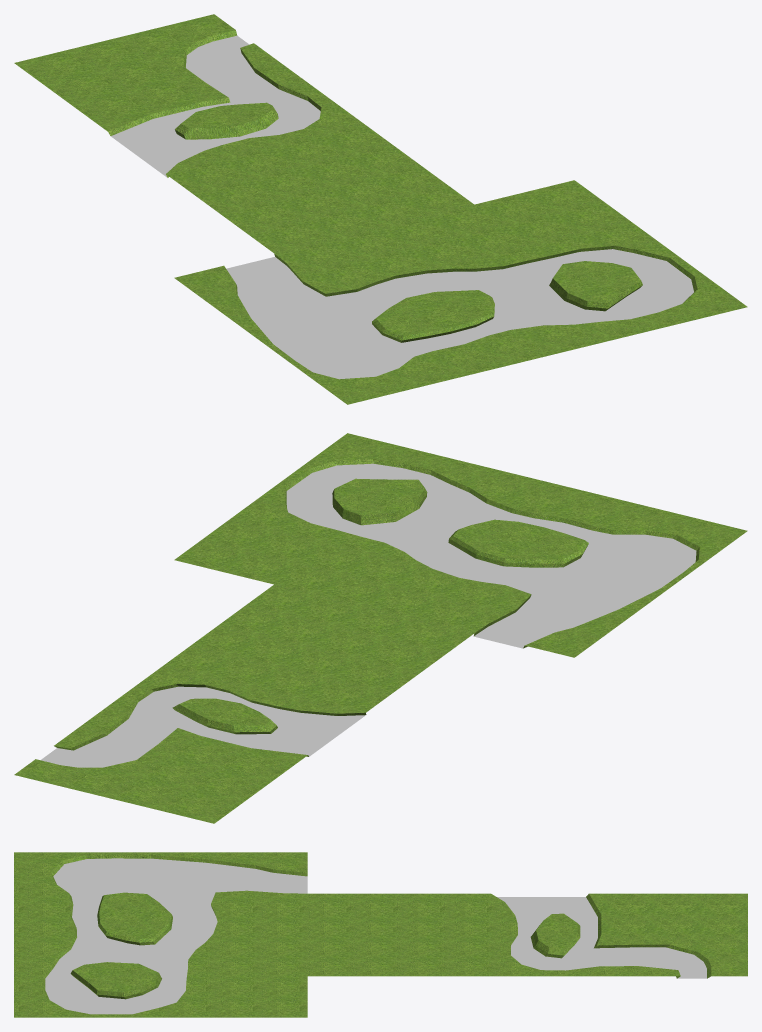
Rendered from PlatformTwo.fbx.
The picture shows the model from 3 angles, top to bottom: view 1: azimuth 30°, elevation 25°; view 2: azimuth 150°, elevation 25°; view 3: azimuth 270°, elevation 25°; orthographic projection. The views are drawn at different scales.
Visible parts, largest first — view 1: Plane; view 2: Plane; view 3: Plane.
Boxes of the visible parts, box(x1,y1,x2,y2) form: Plane: box(14, 14, 747, 404); Plane: box(14, 433, 747, 823); Plane: box(14, 852, 747, 1017).
Bounding box in the file's own units: 16 × 0.3155 × 30.
